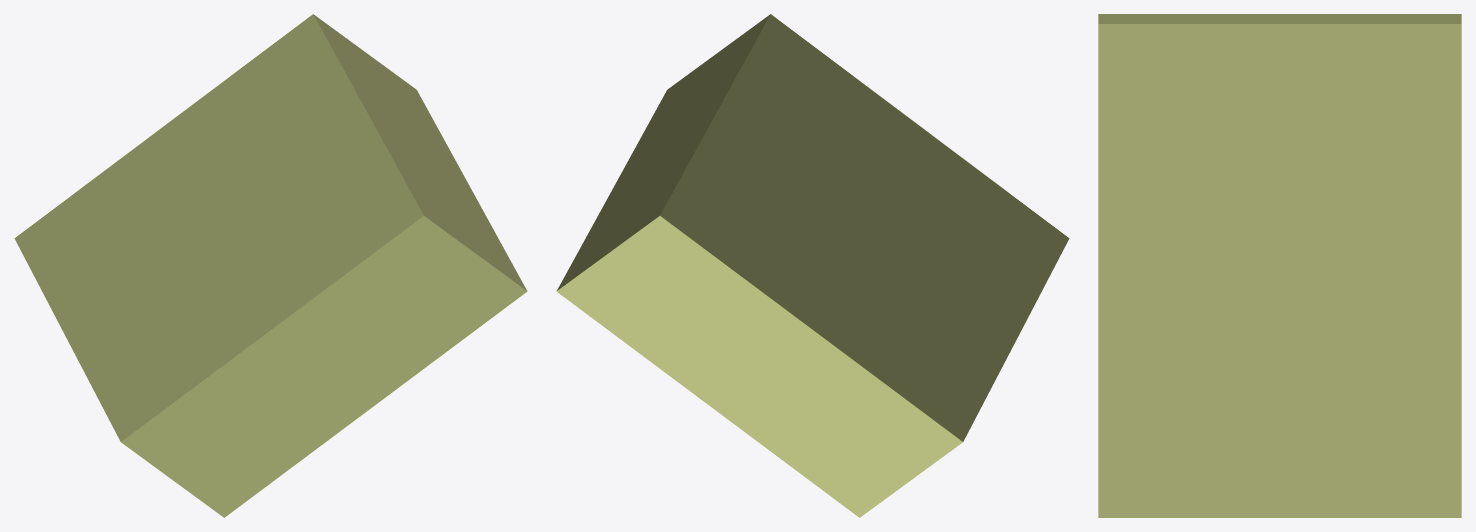
3 views of the same model, side by side, from view 1: azimuth 30°, elevation 25°; view 2: azimuth 150°, elevation 25°; view 3: azimuth 270°, elevation 25° (orthographic). The views are drawn at different scales.
Parts seen in each view (by area): view 1: 0_1_0_2_1_3_2_2_3_1_3; view 2: 0_1_0_2_1_3_2_2_3_1_3; view 3: 0_1_0_2_1_3_2_2_3_1_3.
Part boxes in pixels (left/top/right/bottom): 0_1_0_2_1_3_2_2_3_1_3: left=14, top=14, right=527, bottom=517; 0_1_0_2_1_3_2_2_3_1_3: left=556, top=14, right=1069, bottom=517; 0_1_0_2_1_3_2_2_3_1_3: left=1098, top=14, right=1461, bottom=517.
Bounding box in the file's own units: 13.7 × 12.19 × 6.
